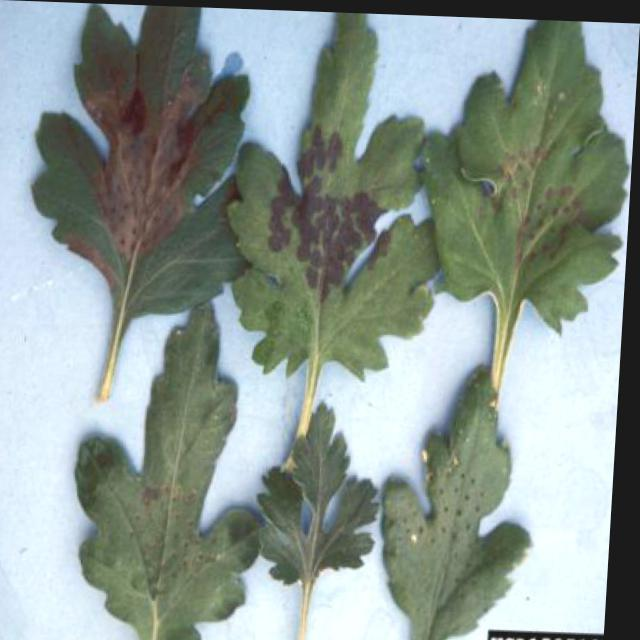Tomato late blight leaf: (406, 12, 638, 384), (64, 277, 295, 640), (379, 330, 569, 639), (260, 404, 392, 630)
